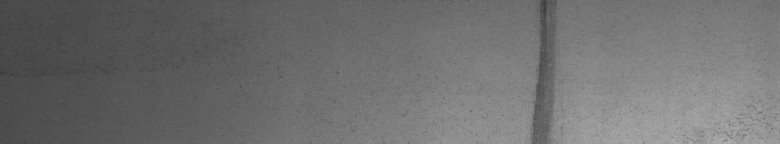hd: (524, 4, 557, 136)
